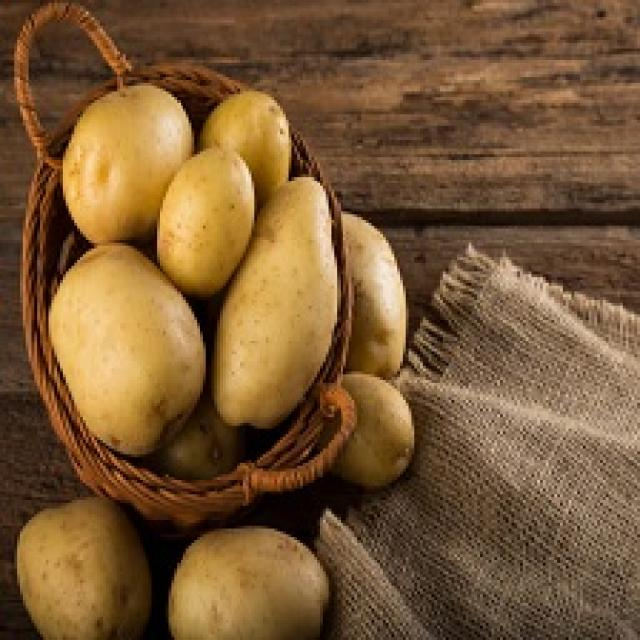healthy: (42, 56, 430, 492), (160, 497, 343, 640), (11, 494, 160, 640)
